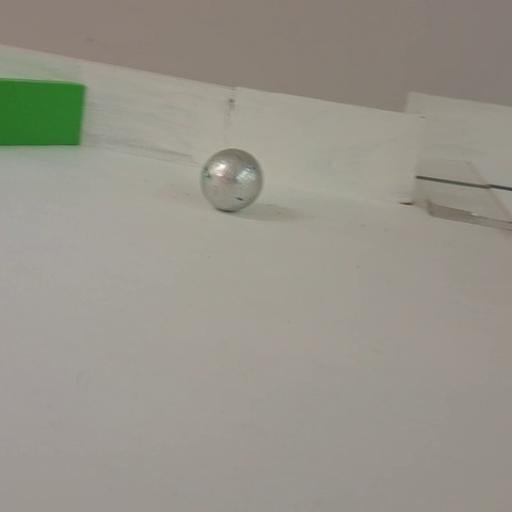alive: (199, 147, 264, 212)
